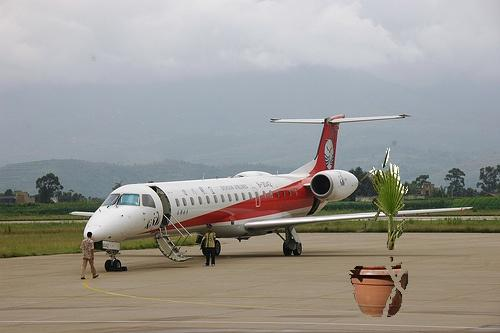tampered: (348, 148, 408, 317)
